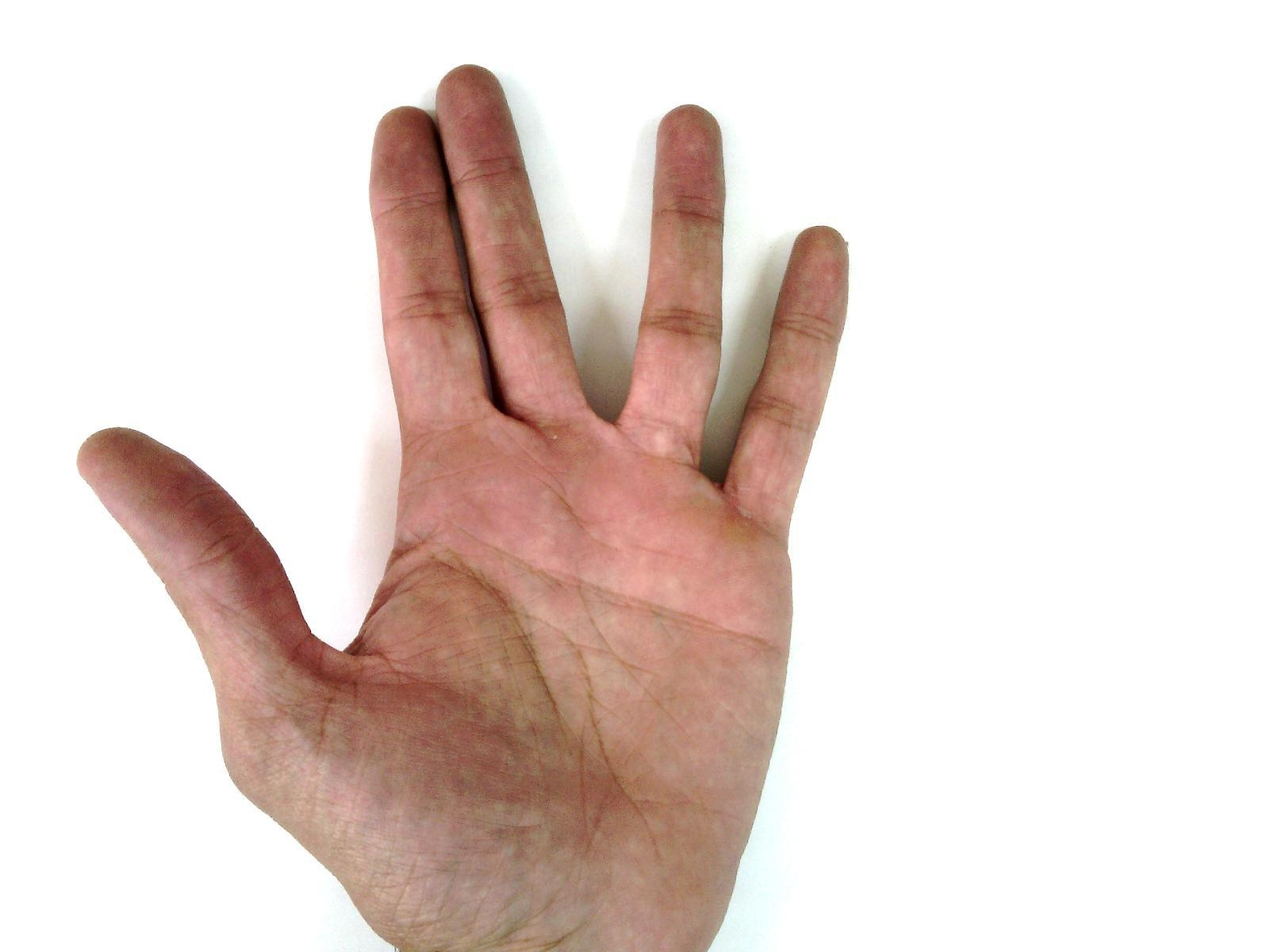open_palm: (75, 63, 854, 951)
